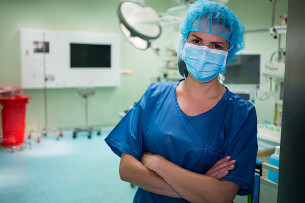face_mask: (183, 24, 230, 83)
